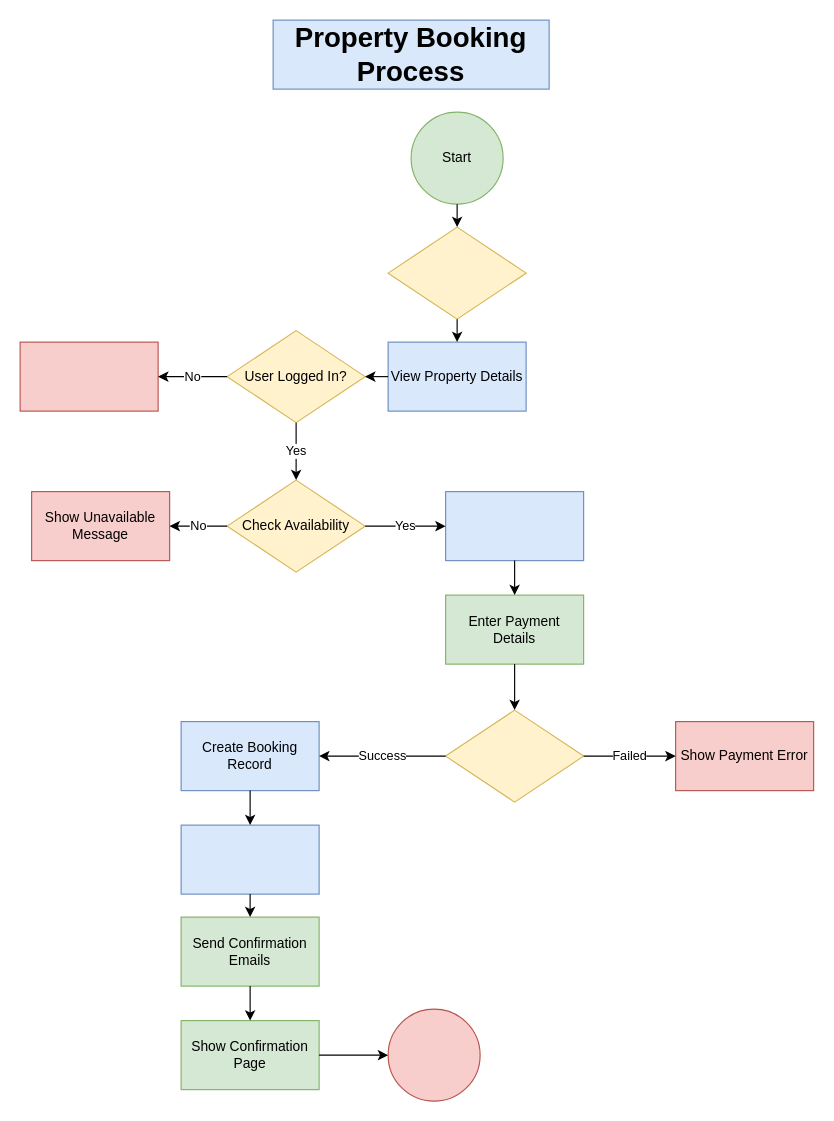
The diagram is 834 pixels wide and 1121 high, and some of its shapes have lost their labels. The shapes that lost their labels are listed below. From the top down, each one's centre as x and y in pixels, then its label:
pixel 456 272: Search Properties
pixel 88 376: Redirect to Login
pixel 514 525: Calculate Total Price
pixel 514 755: Process Payment
pixel 249 859: Update Availability
pixel 433 1054: End
